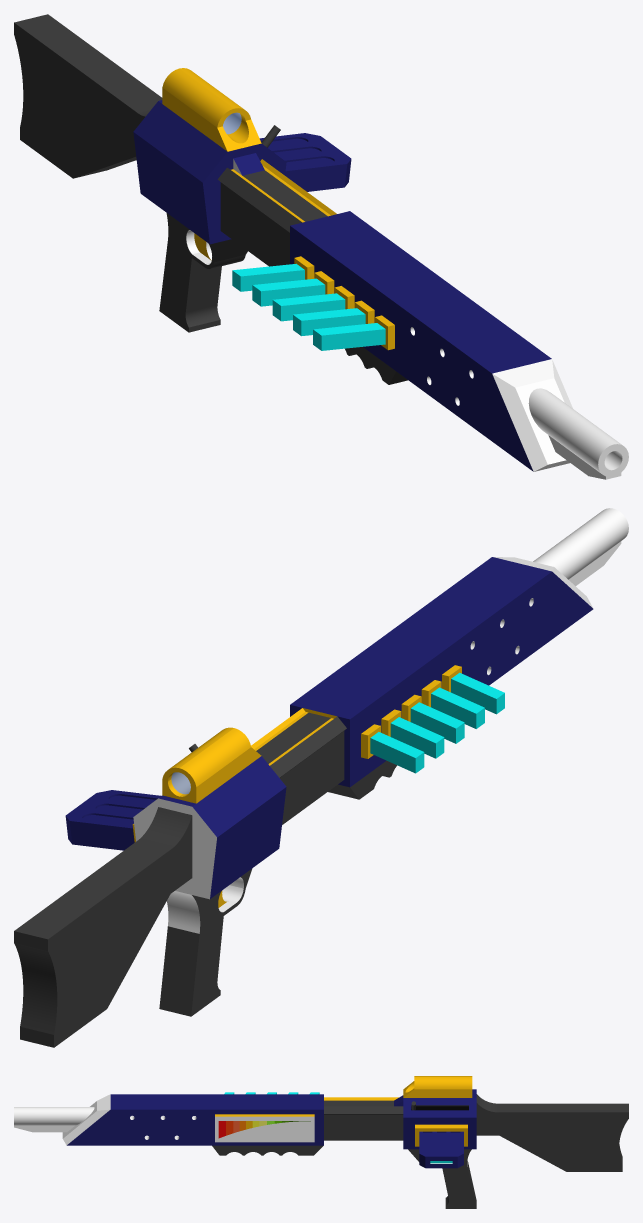
Rendered from ColoredRailGun.fbx.
3 views of the same model, one above another, from view 1: azimuth 30°, elevation 25°; view 2: azimuth 150°, elevation 25°; view 3: azimuth 270°, elevation 25° (orthographic). The views are drawn at different scales.
Parts seen in each view (by area): view 1: Model; view 2: Model; view 3: Model.
Boxes of the visible parts, x1,y1,x2,y2 form: Model: (14,14,628,479); Model: (14,508,628,1047); Model: (14,1076,628,1208).
Size of the model in its own units: 15.2 by 16.01 by 69.94.
